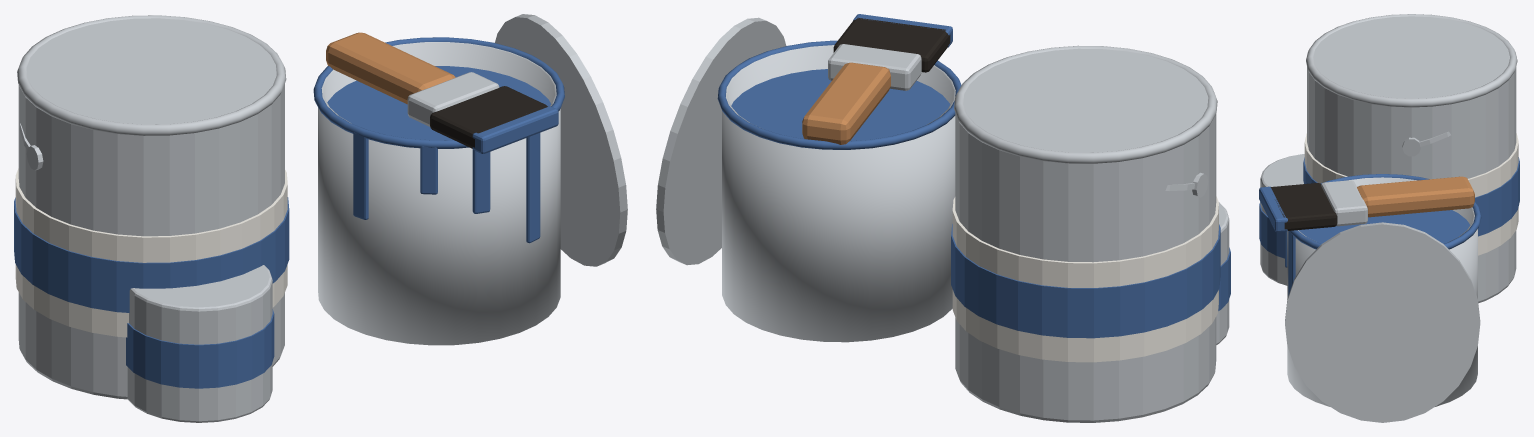
Rendered from hh_cat_paint_cans.glb.
3 views of the same model, side by side, from view 1: azimuth 30°, elevation 25°; view 2: azimuth 150°, elevation 25°; view 3: azimuth 270°, elevation 25° (orthographic). The views are drawn at different scales.
Visible parts, largest first — view 1: tin, open_tin, lid, small_tin, colour_band, wrap, small_band, rim, brush_handle, paint, bristles, paint_rim (+6 smaller); view 2: tin, open_tin, wrap, colour_band, lid, paint, rim, brush_handle, paint_rim, bristles, ferrule, small_tin (+2 smaller); view 3: lid, tin, brush_handle, rim, open_tin, wrap, bristles, paint, small_tin, colour_band, ferrule, paint_rim (+4 smaller).
Part boxes in pixels (<box>): tin: <box>18,18,284,399</box>; open_tin: <box>318,42,560,345</box>; lid: <box>495,14,627,266</box>; small_tin: <box>127,265,272,422</box>; colour_band: <box>14,197,289,312</box>; wrap: <box>15,168,287,337</box>; small_band: <box>126,309,274,388</box>; rim: <box>17,15,286,135</box>; brush_handle: <box>326,32,455,104</box>; paint: <box>327,66,550,140</box>; bristles: <box>430,86,547,148</box>; paint_rim: <box>313,37,564,148</box>; tin: <box>955,48,1216,422</box>; open_tin: <box>722,45,955,342</box>; wrap: <box>952,196,1218,362</box>; colour_band: <box>951,224,1220,338</box>; lid: <box>656,17,786,265</box>; paint: <box>731,69,950,141</box>; rim: <box>954,45,1217,163</box>; brush_handle: <box>802,62,890,144</box>; paint_rim: <box>717,40,961,149</box>; bristles: <box>833,17,950,72</box>; ferrule: <box>828,44,921,90</box>; small_tin: <box>1216,202,1229,344</box>; lid: <box>1285,222,1480,422</box>; tin: <box>1307,16,1516,303</box>; brush_handle: <box>1357,176,1474,217</box>; rim: <box>1306,14,1517,107</box>; open_tin: <box>1287,177,1477,406</box>; wrap: <box>1304,133,1518,255</box>; bristles: <box>1270,183,1337,230</box>; paint: <box>1298,210,1470,243</box>; small_tin: <box>1260,154,1304,285</box>; colour_band: <box>1303,157,1519,236</box>; ferrule: <box>1321,180,1367,226</box>; paint_rim: <box>1290,174,1481,249</box>.
Bounding box in the file's own units: 0.4 × 0.2 × 0.22.
